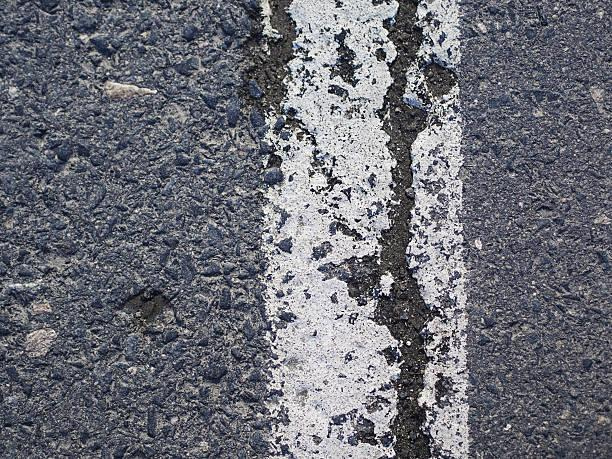faded_road_lines: (250, 0, 478, 459)
